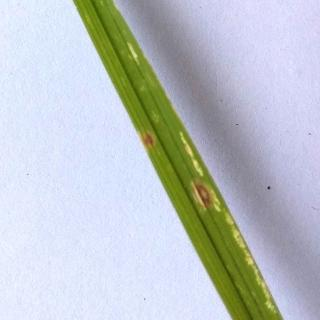Blast: (177, 151, 231, 230), (134, 113, 174, 168)
